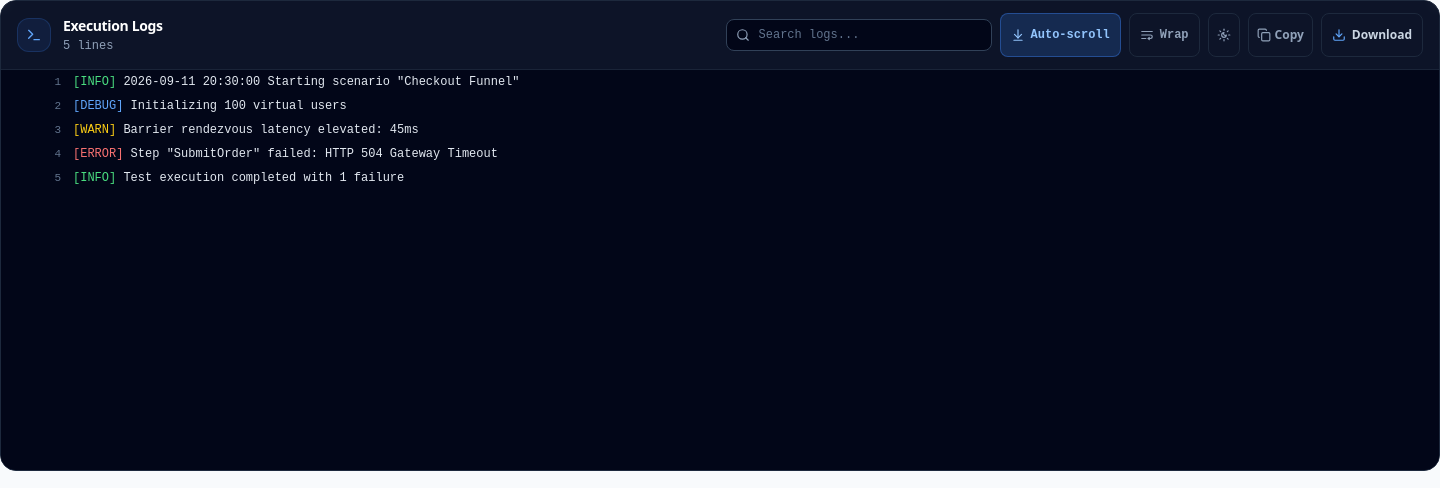
Scenario: VirtualizedLogViewer › displays 0 matches when search query is not found
In the field with placeholder "Search logs...": (858, 35) [726, 19, 992, 51], type "nonexistentterm"
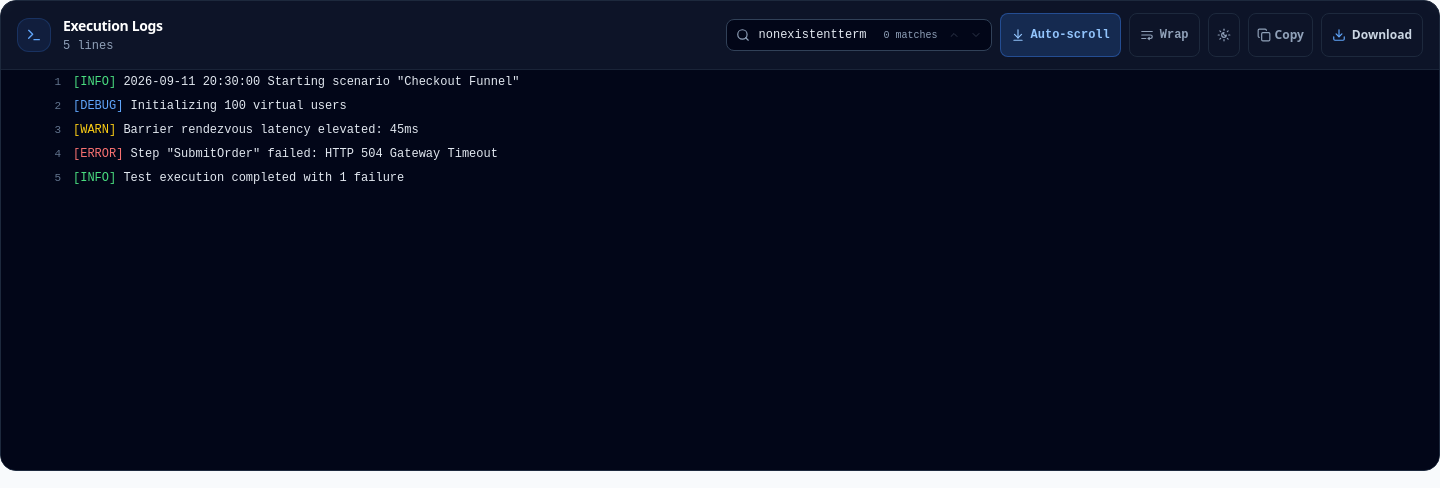
Now the text "0 matches" is shown, box [880, 28, 942, 42]
